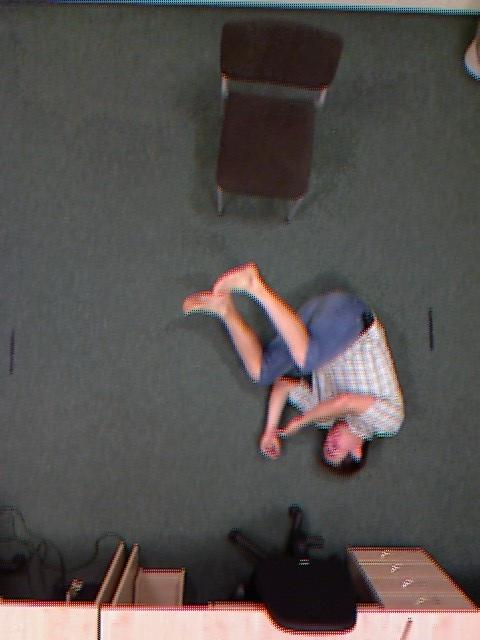fall: (213, 219, 373, 530)
